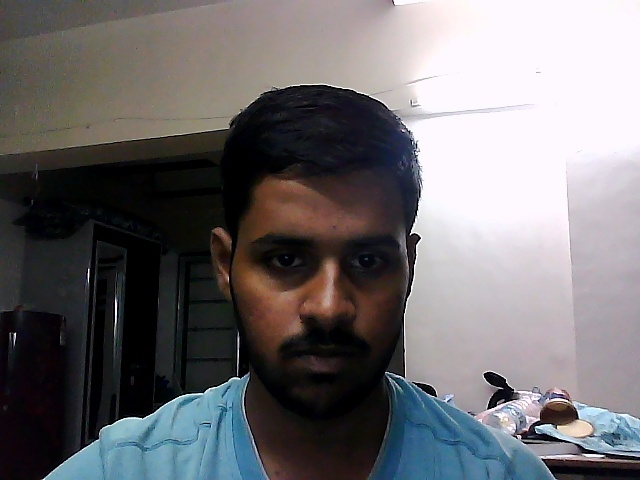awake: (192, 63, 443, 410)
